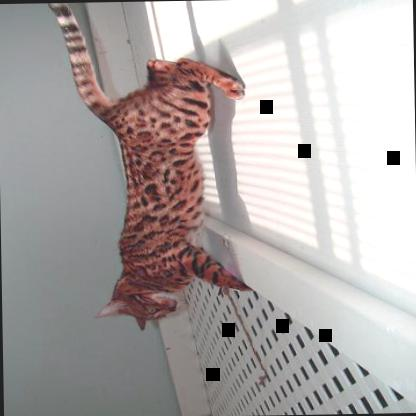cat: (44, 0, 254, 333)
